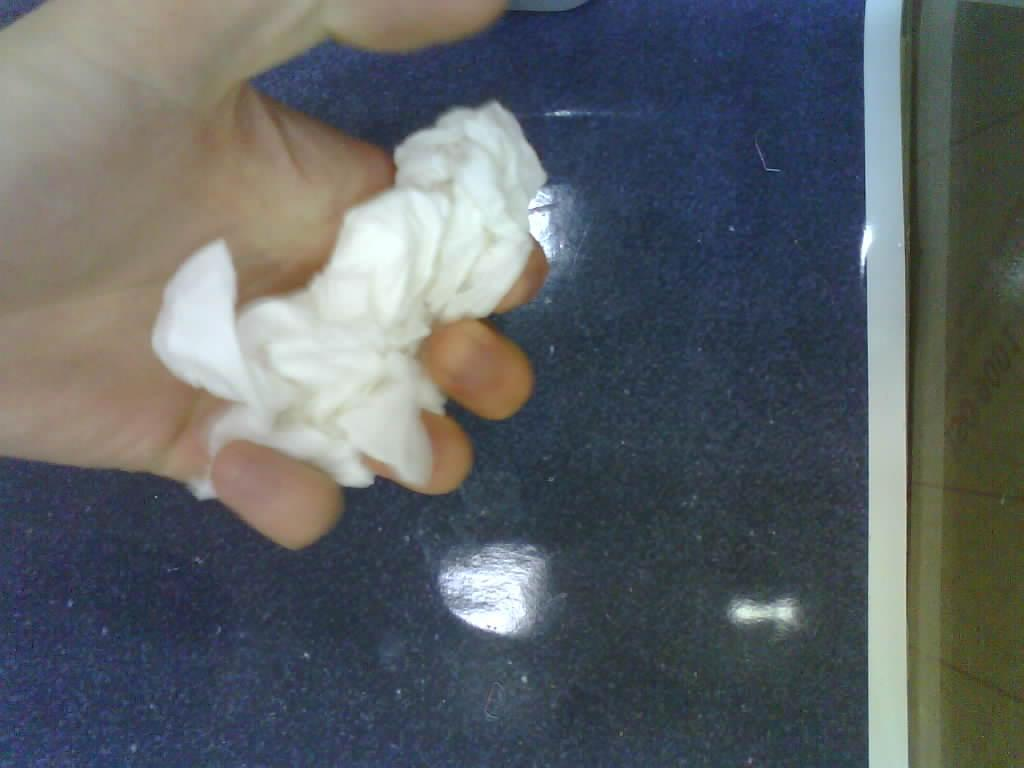paper: (151, 102, 543, 506)
